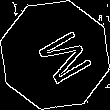M_SW: (22, 22, 88, 88)
